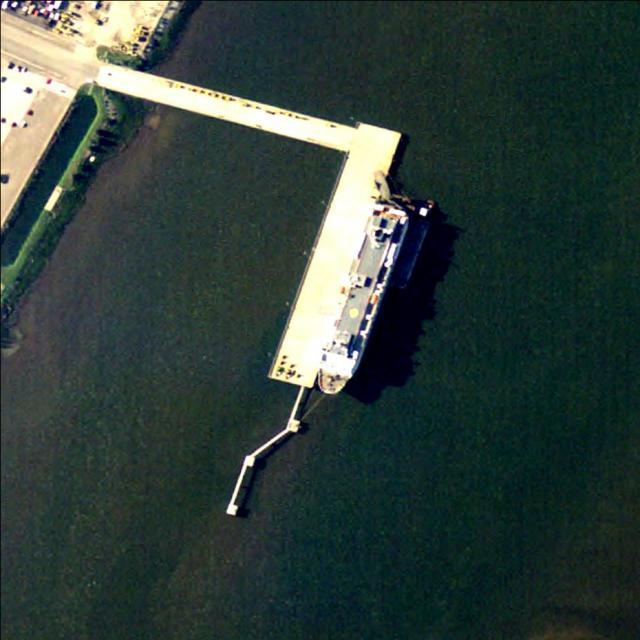Dock: (268, 118, 403, 395)
RoRo: (309, 191, 416, 402)
